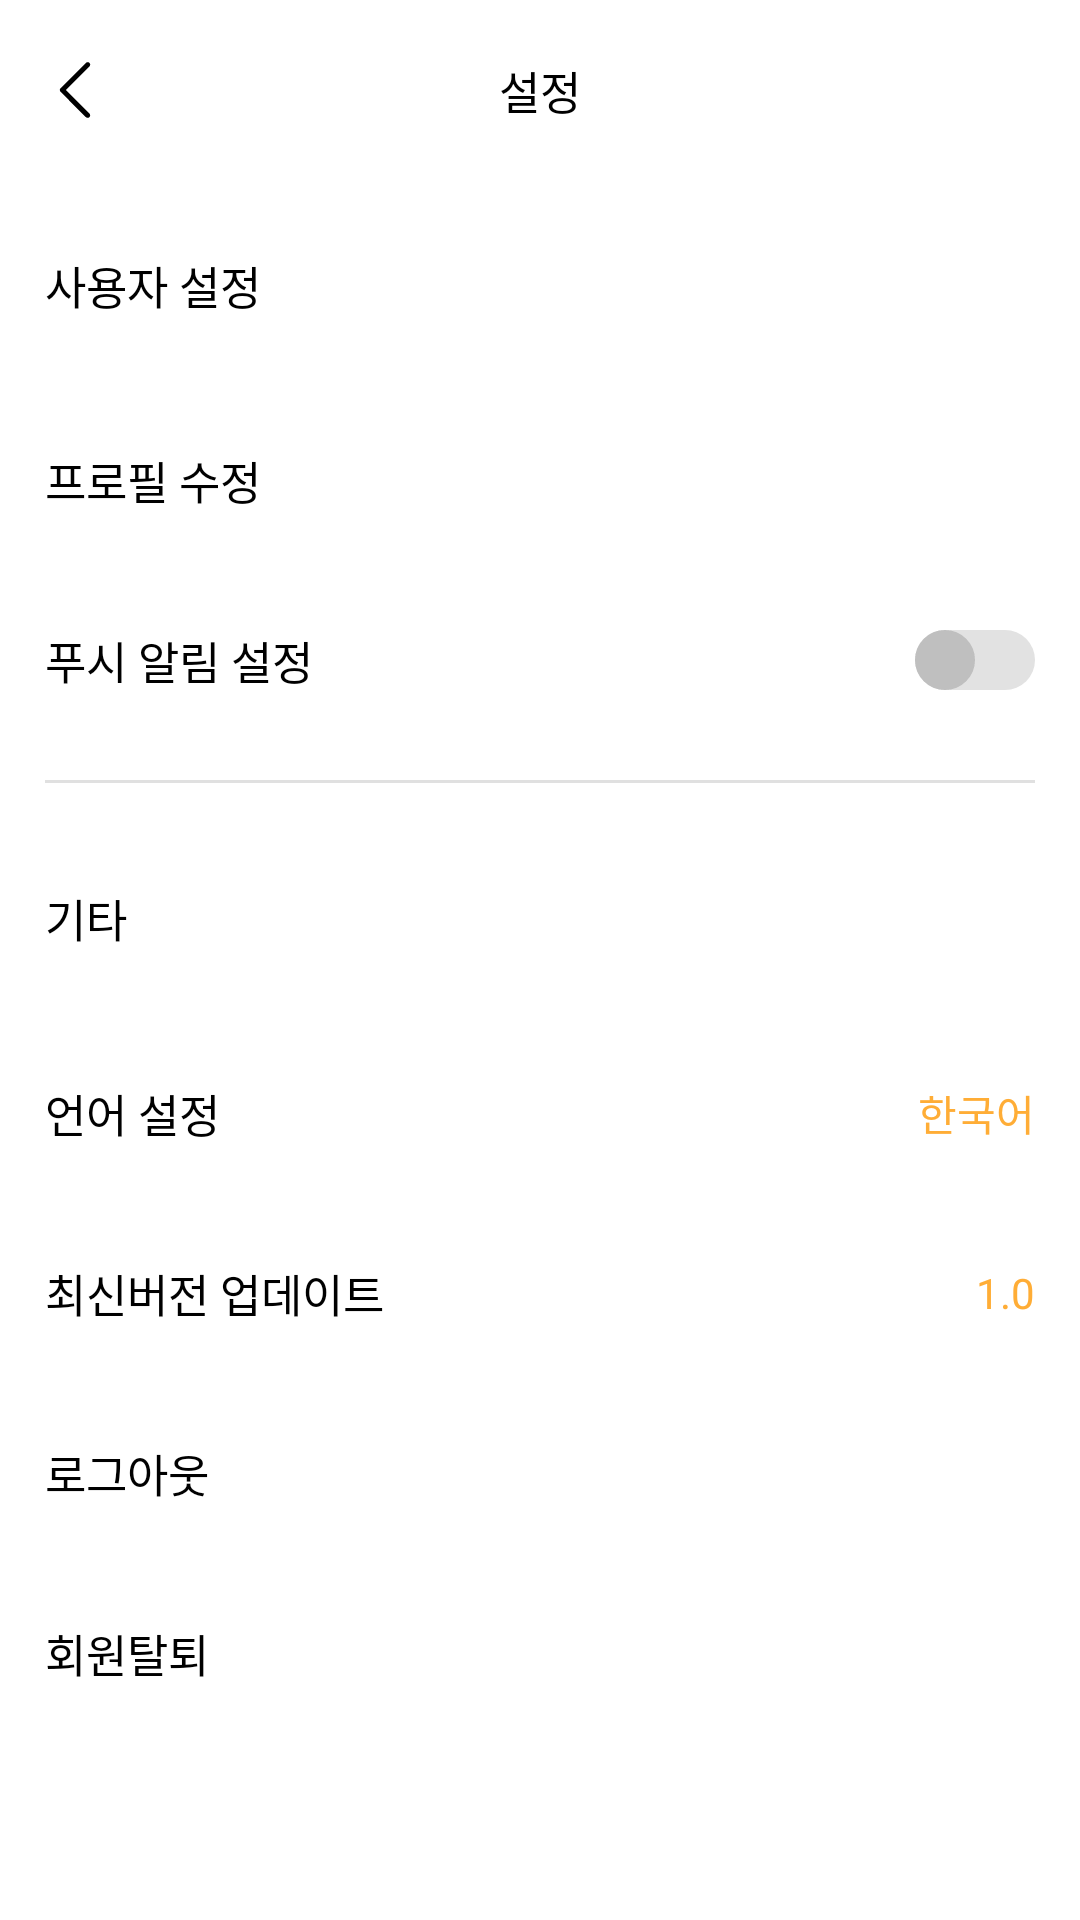

Where icons sit on this 1080 x 1920 app screen, as (x1, y1, x2, y2):
arrow back: (59, 62, 91, 118)
